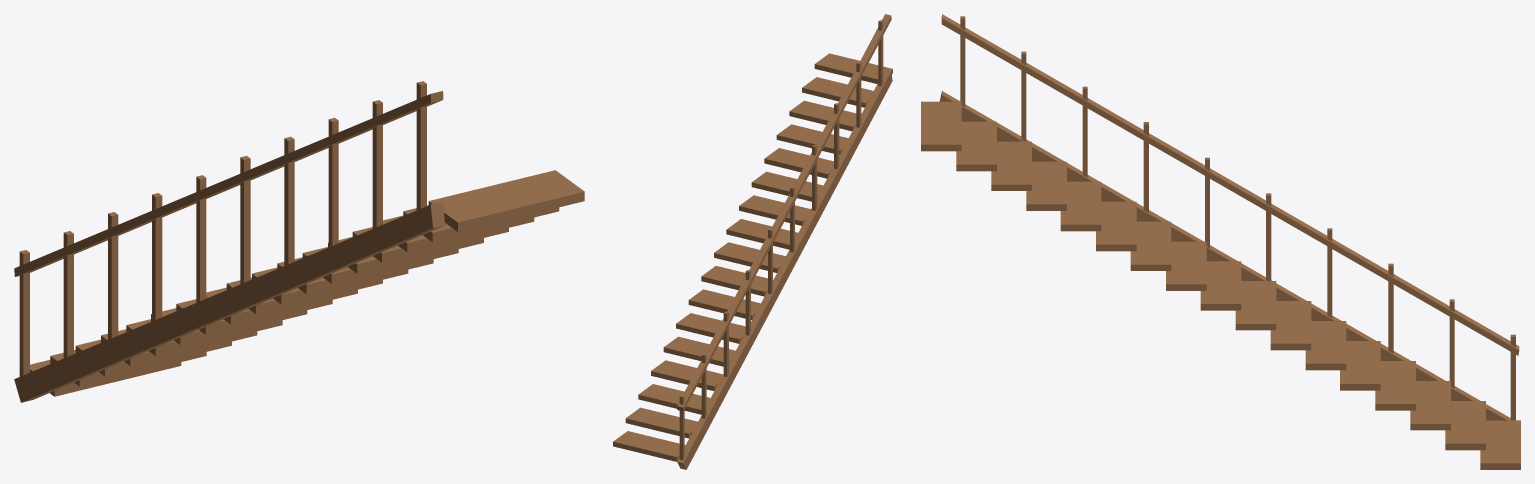
Rendered from Stairs_1.fbx.
3 views of the same model, side by side, from view 1: azimuth 30°, elevation 25°; view 2: azimuth 150°, elevation 25°; view 3: azimuth 270°, elevation 25° (orthographic). The views are drawn at different scales.
Parts seen in each view (by area): view 1: Stairs_mesh; view 2: Stairs_mesh; view 3: Stairs_mesh.
Boxes of the visible parts, x1,y1,x2,y2 form: Stairs_mesh: (14,81,584,402); Stairs_mesh: (613,14,892,469); Stairs_mesh: (921,14,1520,469).
Size of the model in its own units: 83.27 by 348 by 449.
